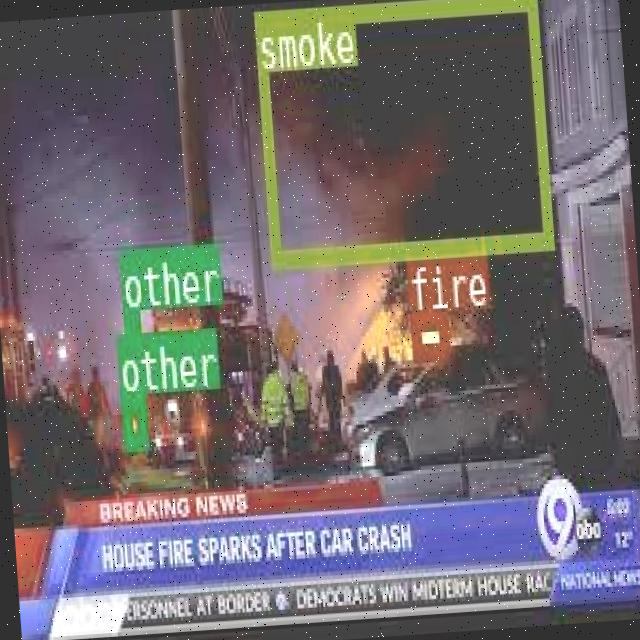fire: (407, 307, 448, 358)
smoke: (251, 0, 552, 265)
